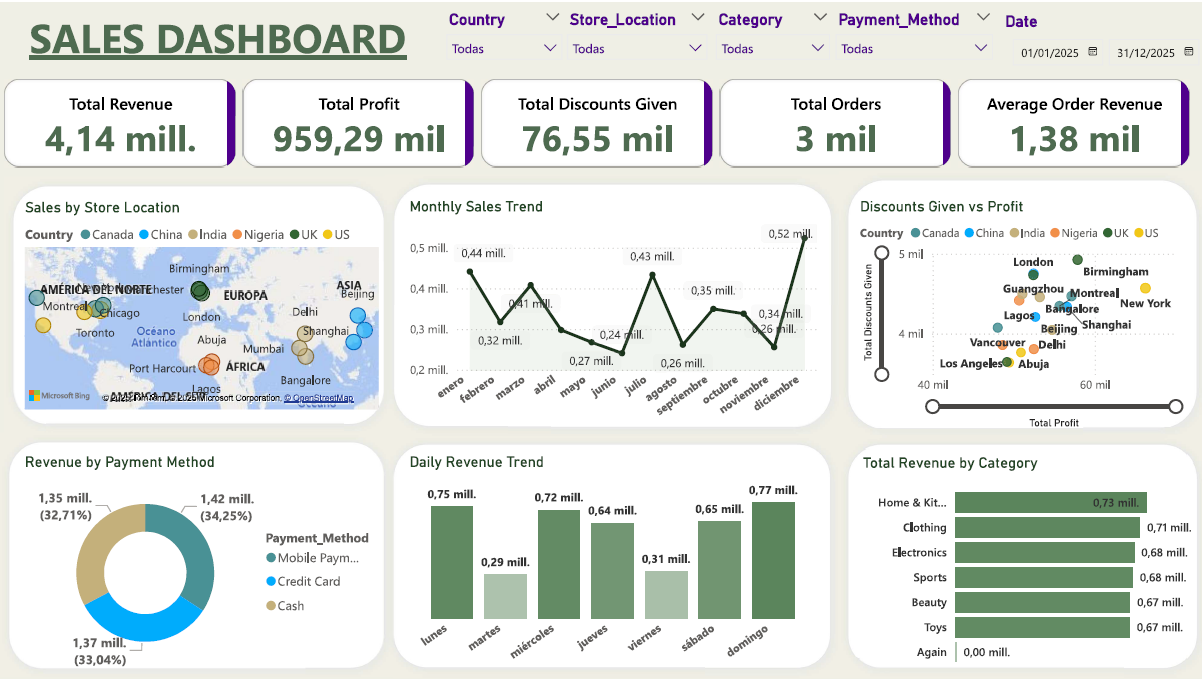

This screenshot's page, from the dashboard's own definition file:
{"tool":"powerbi","page":{"name":"Página 1","canvas":[1280,720],"ordinal":0},"visuals":[{"type":"shape","box":[4.9,185.4,413.1,271.6],"z":0},{"type":"cardVisual","fields":{"Data":["sales_data - import.Total Revenue","sales_data - import.Total Profit","sales_data - import.Total Discounts Give","sales_data - import.Total Orders","sales_data - import.Average Order Revenue"]},"box":[0,76.7,1270,103.3],"z":1000},{"type":"textbox","box":[0,3.3,463.3,76.7],"z":2000},{"type":"slicer","fields":{"Values":["sales_data - import.Country"]},"box":[463.6,3.3,143.1,69.9],"z":3000},{"type":"slicer","fields":{"Values":["sales_data - import.Store_Location"]},"box":[592.1,3.3,169.2,69.9],"z":4000},{"type":"slicer","fields":{"Values":["sales_data - import.Category"]},"box":[749.8,3.3,141.5,69.9],"z":5000},{"type":"slicer","fields":{"Values":["sales_data - import.Payment_Method"]},"box":[876.7,3.3,187.1,71.6],"z":6000},{"type":"slicer","title":"Date","fields":{"Values":["sales_data - import.Date"]},"box":[1062.1,9.8,218,63.4],"z":7000},{"type":"map","title":"Sales by Store Location","fields":{"Category":["sales_data - import.Store_Location"],"Size":["Sum(sales_data - import.Total_Revenue)"],"Series":["sales_data - import.Country"]},"box":[21.7,208.3,385,228.3],"z":8000},{"type":"shape","box":[408.9,183,483.3,276.7],"z":9000},{"type":"areaChart","title":"Monthly Sales Trend","fields":{"Y":["Sum(sales_data - import.Total_Revenue)"],"Category":["sales_data - import.Month Name"]},"box":[429.7,207.5,442.3,251.8],"z":10000},{"type":"shape","box":[408.3,458.7,483.1,257],"z":11000},{"type":"columnChart","title":"Daily Revenue Trend","fields":{"Category":["sales_data - import.Day Name"],"Y":["Sum(sales_data - import.Total_Revenue)"]},"box":[430,478.3,441.7,240],"z":12000},{"type":"shape","box":[0,457.1,418,258.6],"z":13000},{"type":"donutChart","title":"Revenue by Payment Method","fields":{"Category":["sales_data - import.Payment_Method"],"Y":["Sum(sales_data - import.Total_Revenue)"]},"box":[21.7,478.3,385,236.7],"z":14000},{"type":"shape","box":[891.3,178.9,388.7,283],"z":15000},{"type":"scatterChart","title":"Discounts Given vs Profit","fields":{"Y":["sales_data - import.Total Discounts Give"],"Category":["sales_data - import.Store_Location"],"Series":["sales_data - import.Country"],"Size":["sales_data - import.Total Orders"],"X":["sales_data - import.Total Profit"]},"box":[907.6,206.6,362.7,250.5],"z":16000},{"type":"shape","box":[891.3,460.3,388.7,255.4],"z":17000},{"type":"barChart","title":"Total Revenue by Category","fields":{"Y":["Sum(sales_data - import.Total_Revenue)"],"Category":["sales_data - import.Category"]},"box":[911.1,478.7,361.1,236.9],"z":18000}]}

Visuals, with their boxes in screenshot pixels (x1, y1, x2, y2), scaled from the page's 1280x720 canvas onto the 1202x679 screenshot:
shape: region(5, 175, 393, 431)
cardVisual - sales_data - import.Total Revenue x sales_data - import.Total Profit: region(0, 72, 1193, 170)
textbox: region(0, 3, 435, 75)
slicer - sales_data - import.Country: region(435, 3, 570, 69)
slicer - sales_data - import.Store_Location: region(556, 3, 715, 69)
slicer - sales_data - import.Category: region(704, 3, 837, 69)
slicer - sales_data - import.Payment_Method: region(823, 3, 999, 71)
"Date" slicer: region(997, 9, 1201, 69)
"Sales by Store Location" map: region(20, 196, 382, 412)
shape: region(384, 173, 838, 434)
"Monthly Sales Trend" areaChart: region(404, 196, 819, 433)
shape: region(383, 433, 837, 675)
"Daily Revenue Trend" columnChart: region(404, 451, 819, 677)
shape: region(0, 431, 393, 675)
"Revenue by Payment Method" donutChart: region(20, 451, 382, 674)
shape: region(837, 169, 1201, 436)
"Discounts Given vs Profit" scatterChart: region(852, 195, 1193, 431)
shape: region(837, 434, 1201, 675)
"Total Revenue by Category" barChart: region(856, 451, 1195, 675)
